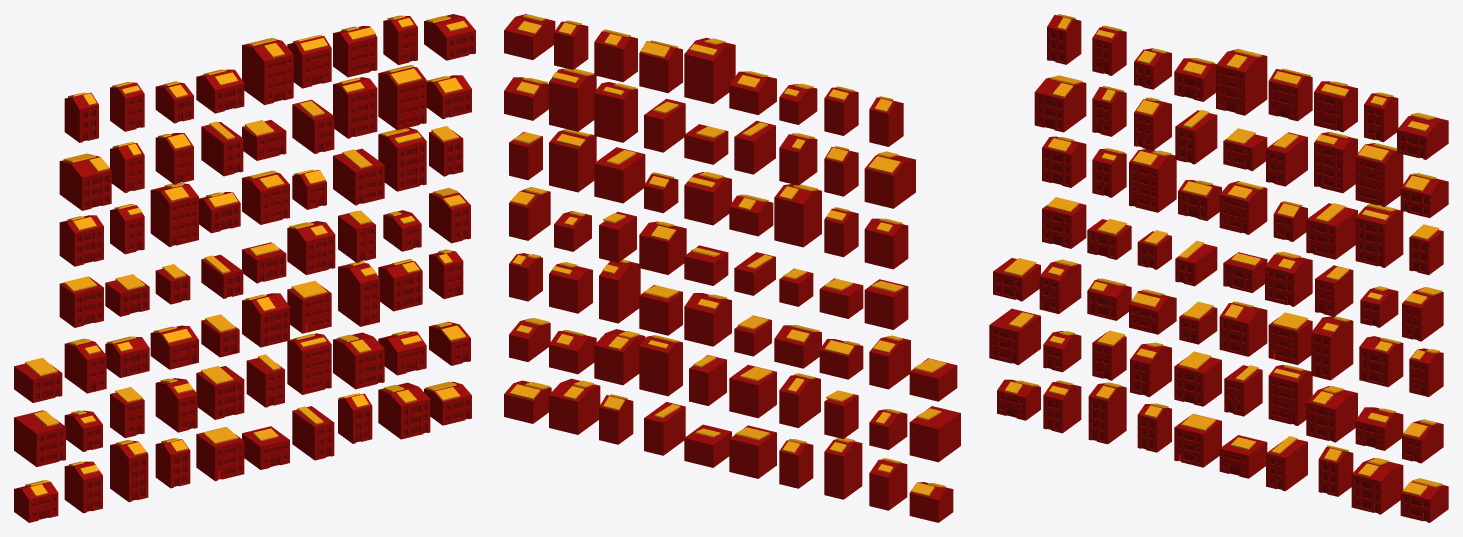
The model's file is Sahne3Acilicak.gltf.
3 renders of one model, left to right at view 1: azimuth 30°, elevation 25°; view 2: azimuth 150°, elevation 25°; view 3: azimuth 330°, elevation 25°, orthographic.
Visible parts, largest first — view 1: Building_049.019, Building_037.019, Building_071.017, Building_061.019, Building_067.019, Building_072.017, Building_068.019, Building_020.018, Building_076.017, Building_064.019, Building_065.019, Building_022.019 (+54 smaller); view 2: Building_049.019, Building_037.019, Building_071.017, Building_072.017, Building_064.019, Building_020.018, Building_061.019, Building_067.019, Building_065.019, Building_076.017, Building_022.019, Building_053.019 (+54 smaller); view 3: Building_049.019, Building_037.019, Building_072.017, Building_071.017, Building_067.019, Building_020.018, Building_068.019, Building_061.019, Building_076.017, Building_022.019, Building_064.019, Building_065.019 (+54 smaller).
Boxes of the visible parts, <box> form: Building_049.019: <box>242,39,293,104</box>; Building_037.019: <box>150,183,198,247</box>; Building_071.017: <box>378,67,426,130</box>; Building_061.019: <box>287,333,331,394</box>; Building_067.019: <box>338,263,379,326</box>; Building_072.017: <box>378,127,426,191</box>; Building_068.019: <box>333,332,384,389</box>; Building_020.018: <box>14,410,65,466</box>; Building_076.017: <box>378,382,430,439</box>; Building_064.019: <box>333,77,377,138</box>; Building_065.019: <box>333,148,384,205</box>; Building_022.019: <box>59,156,111,210</box>; Building_049.019: <box>684,37,735,103</box>; Building_037.019: <box>774,184,821,247</box>; Building_071.017: <box>549,68,596,131</box>; Building_072.017: <box>549,130,596,192</box>; Building_064.019: <box>594,82,637,142</box>; Building_020.018: <box>909,406,960,462</box>; Building_061.019: <box>639,336,682,396</box>; Building_067.019: <box>599,261,640,323</box>; Building_065.019: <box>594,147,645,203</box>; Building_076.017: <box>549,378,600,434</box>; Building_022.019: <box>864,155,915,208</box>; Building_053.019: <box>684,293,731,346</box>; Building_049.019: <box>1216,49,1267,115</box>; Building_037.019: <box>1129,149,1176,212</box>; Building_072.017: <box>1355,206,1403,267</box>; Building_071.017: <box>1355,143,1403,206</box>; Building_067.019: <box>1311,316,1353,380</box>; Building_020.018: <box>989,308,1040,365</box>; Building_068.019: <box>1306,386,1357,442</box>; Building_061.019: <box>1268,364,1312,425</box>; Building_076.017: <box>1351,458,1403,514</box>; Building_022.019: <box>1034,77,1086,132</box>; Building_064.019: <box>1314,132,1357,193</box>; Building_065.019: <box>1306,203,1357,259</box>.
Size of the model in its own units: 0.7337 by 0.6666 by 0.0652.
